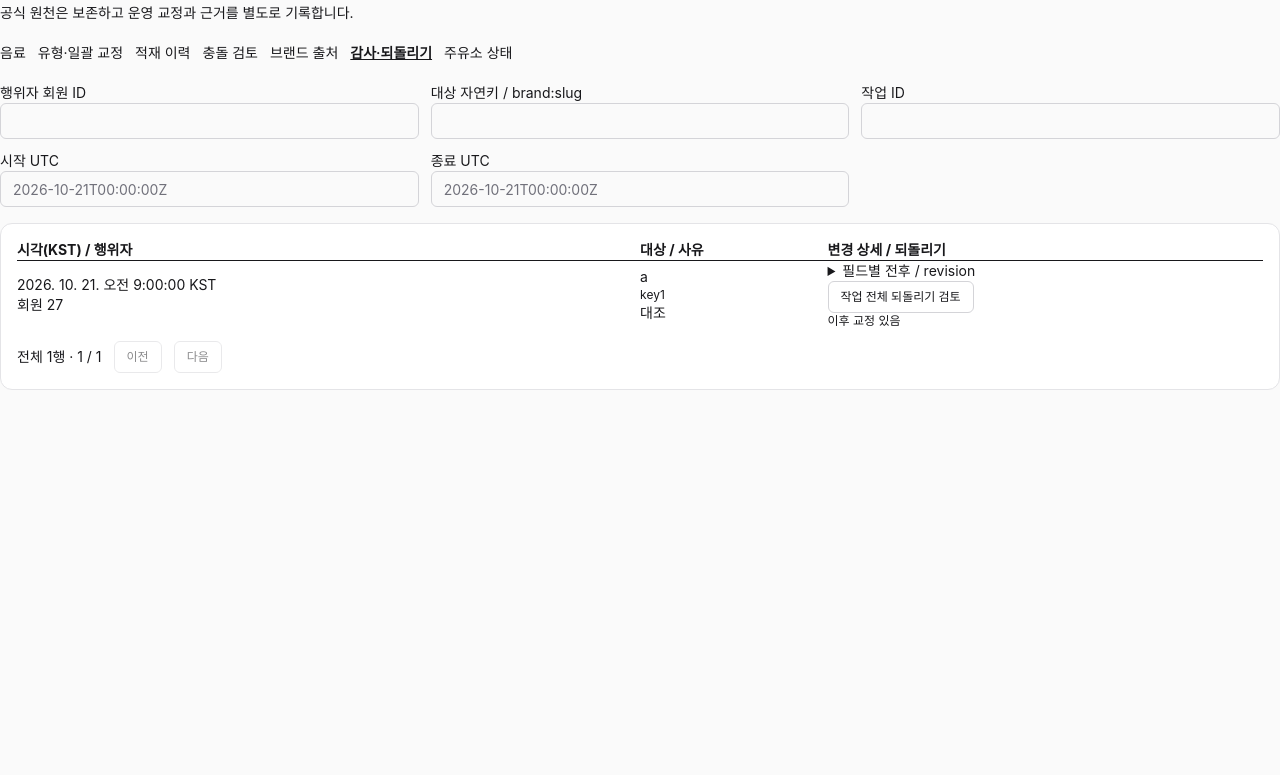
Scenario: round 1 reviewed UI contracts › F12 renders restored per-target correction states and blocks whole revert when one target is stale
Step 1. Click the button "작업 전체 되돌리기 검토" → click(900, 297), box x1=828 y1=281 x2=974 y2=313
(page scrolled)
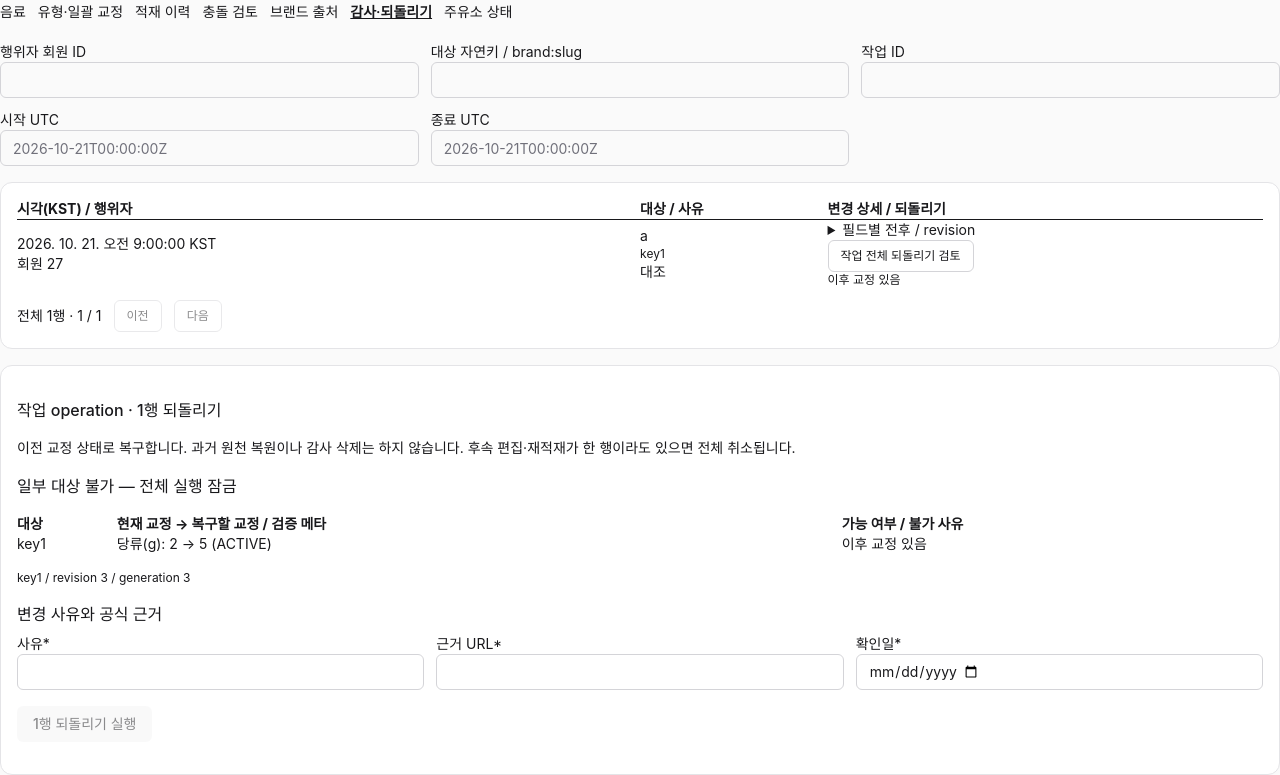
Expected: the text "일부 대상 불가 — 전체 실행 잠금" is shown, x1=17 y1=476 x2=237 y2=496
Expected: the text "당류(g): 2 → 5 (ACTIVE)" is shown, x1=117 y1=535 x2=272 y2=552
Expected: the button "1행 되돌리기 실행" is disabled, x1=17 y1=706 x2=152 y2=742
